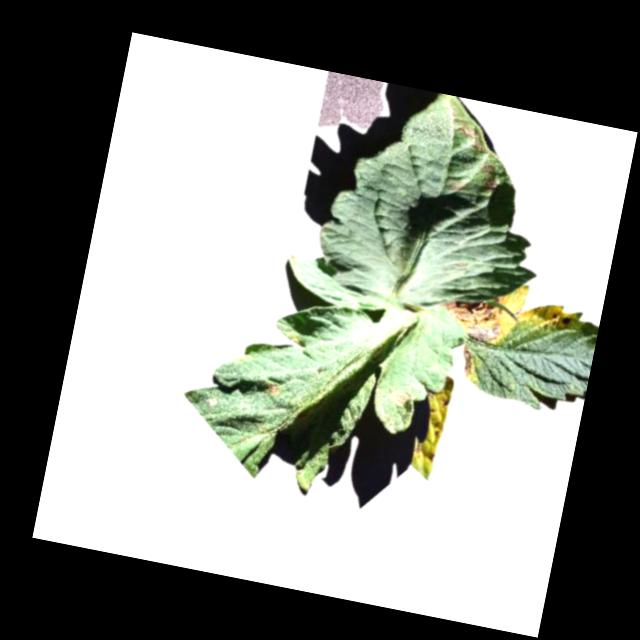Early_blight: (436, 281, 513, 346), (456, 123, 492, 153), (477, 161, 502, 189), (455, 342, 478, 370), (413, 439, 439, 463), (386, 386, 410, 408), (555, 307, 577, 329), (260, 378, 283, 396)
